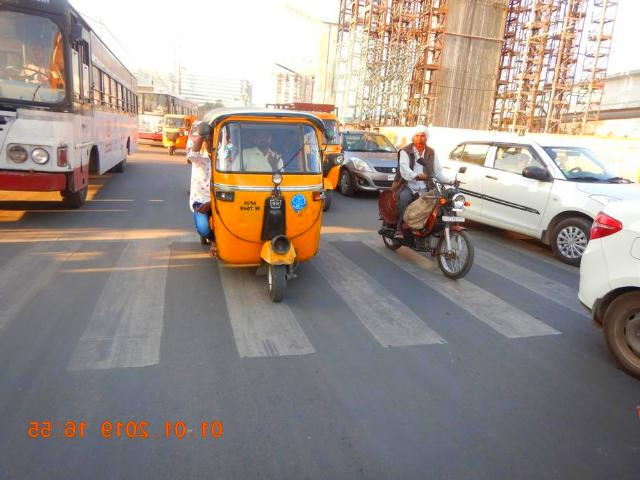motor: (383, 182, 476, 283)
non-helm: (412, 127, 430, 148)
